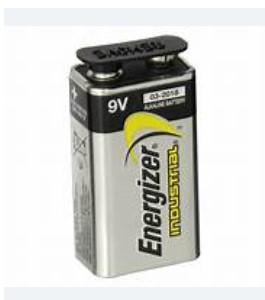9V Battery: (69, 36, 201, 279)
